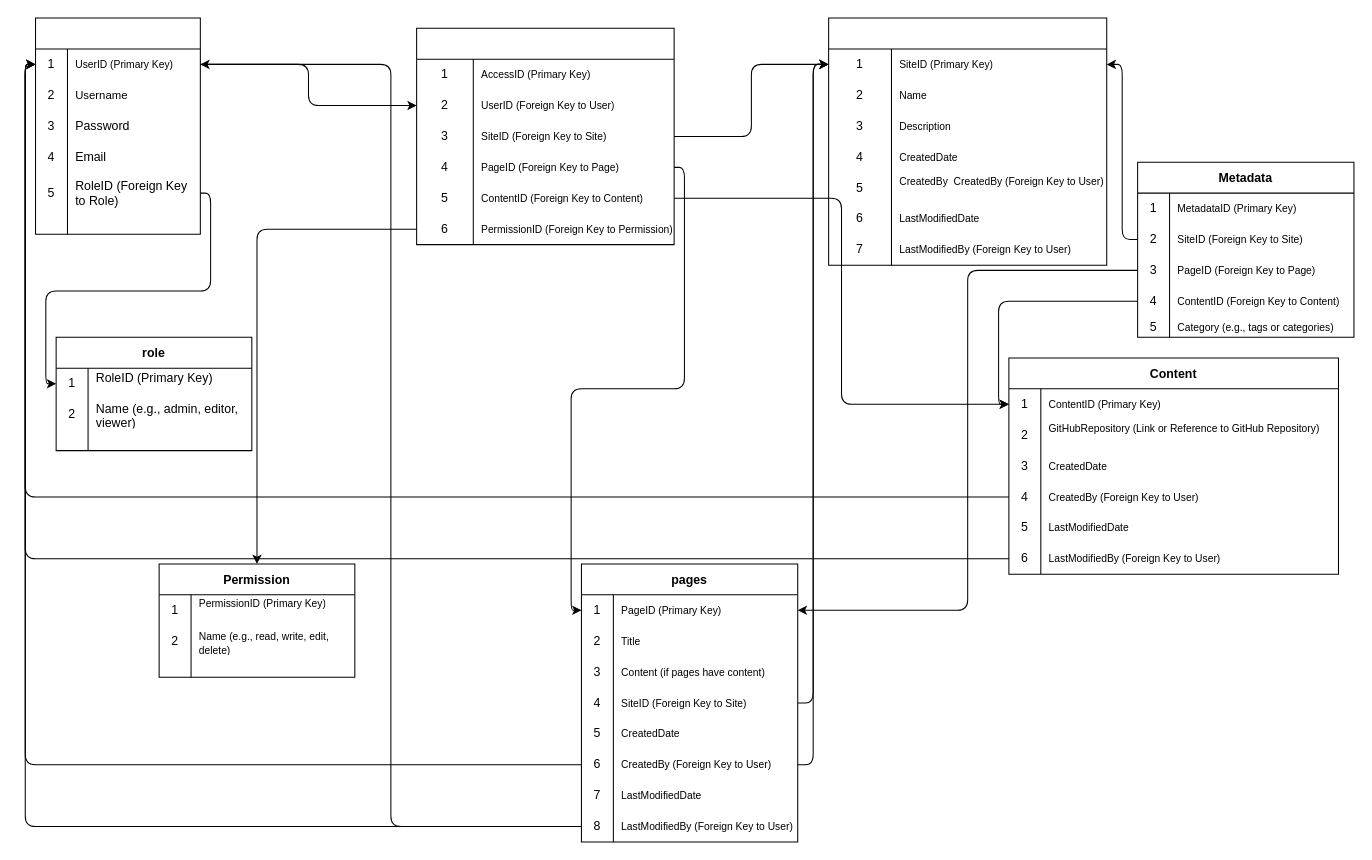
Image size: 1372x860. Some labels were removed from this diagram. The shapes that lost their labels are listed below. From the top down, each one's box as (x1, y1, x2, y2) in pixels, then its label:
(35, 17, 200, 234): users
(416, 27, 674, 245): Access Control
(828, 17, 1107, 265): sites
